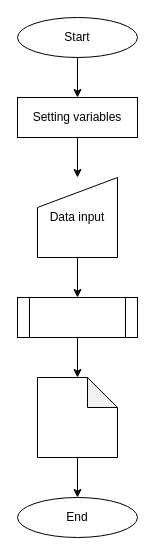
Image size: 155x555. Some labels were removed from this diagram. The shapes that lost their labels are listed below. From the top down, each one's centre as x and y in pixels, then its label:
At (x=77, y=317): "Finding shortest path".
At (x=77, y=417): "Data output".
